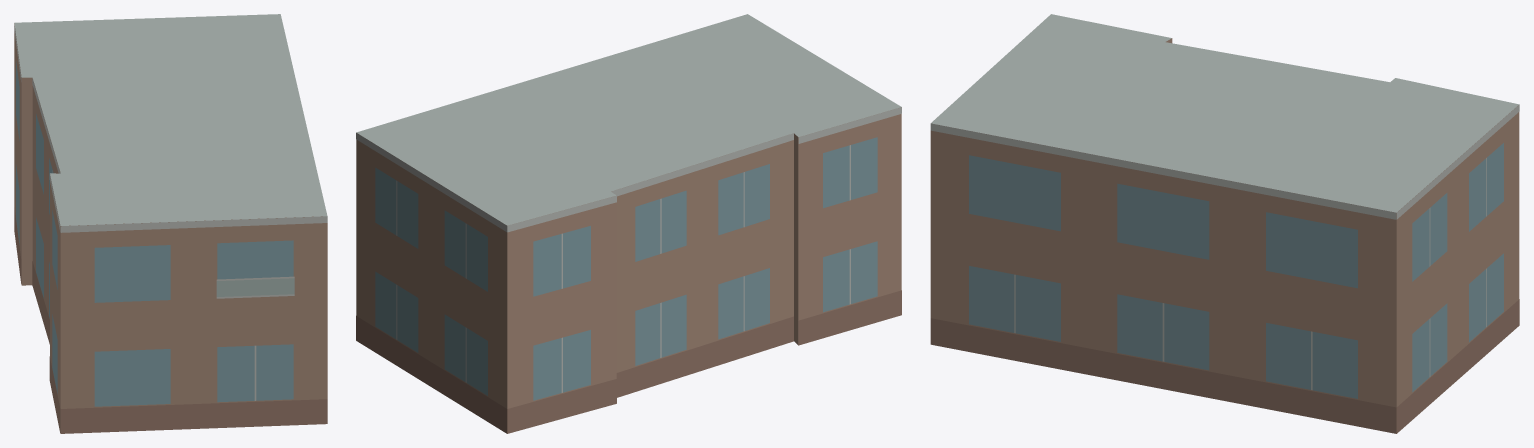
Rendered from survey-upis-32640823.glb.
3 renders of one model, left to right at view 1: azimuth 30°, elevation 25°; view 2: azimuth 150°, elevation 25°; view 3: azimuth 270°, elevation 25°, orthographic. The views are drawn at different scales.
Visible parts, largest first — view 1: survey-upis-32640823.tmp; view 2: survey-upis-32640823.tmp; view 3: survey-upis-32640823.tmp.
Part boxes in pixels (box(x1,y1,x2,y2)): survey-upis-32640823.tmp: box(14, 14, 327, 433); survey-upis-32640823.tmp: box(356, 14, 901, 433); survey-upis-32640823.tmp: box(930, 14, 1519, 433).
Size of the model in its own units: 14.46 by 7.5 by 18.1.
